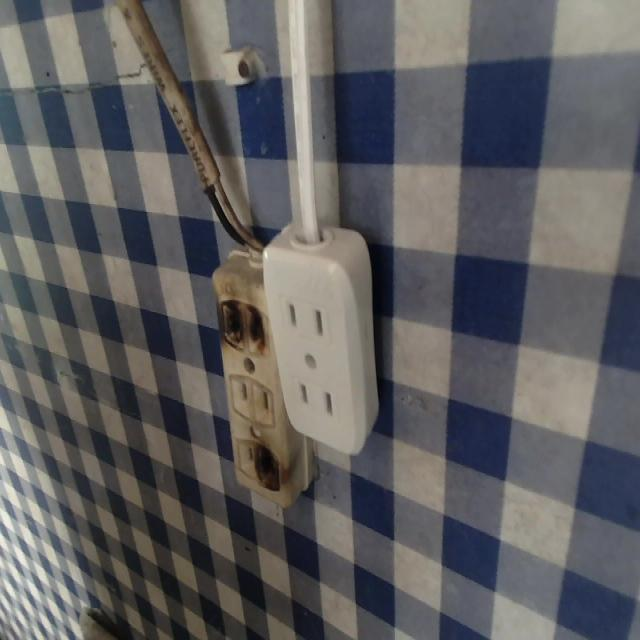-: (214, 291, 271, 361), (251, 436, 287, 501)
